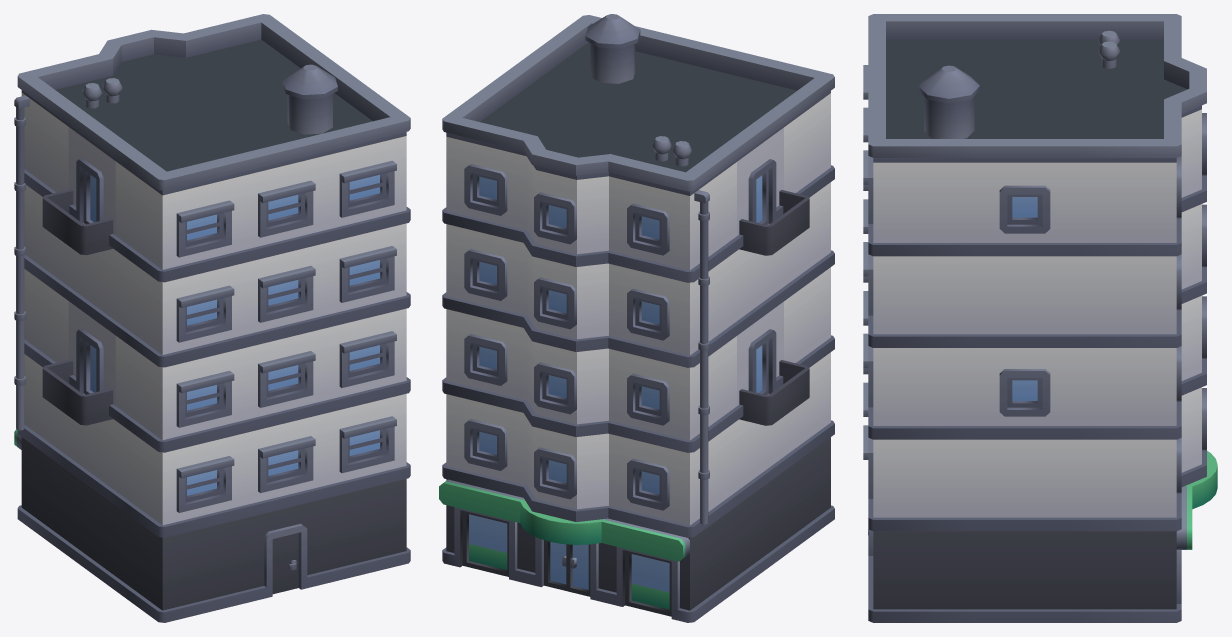
File: building-l.glb
3 views of the same model, side by side, from view 1: azimuth 30°, elevation 25°; view 2: azimuth 150°, elevation 25°; view 3: azimuth 270°, elevation 25° (orthographic). The views are drawn at different scales.
Visible parts, largest first — view 1: building-l; view 2: building-l; view 3: building-l.
Part boxes in pixels (<box>): building-l: <box>14,14,410,622</box>; building-l: <box>439,14,834,622</box>; building-l: <box>863,14,1217,622</box>.
Bounding box in the file's own units: 1.37 × 2.27 × 1.4.
1 material, 1 textured.
